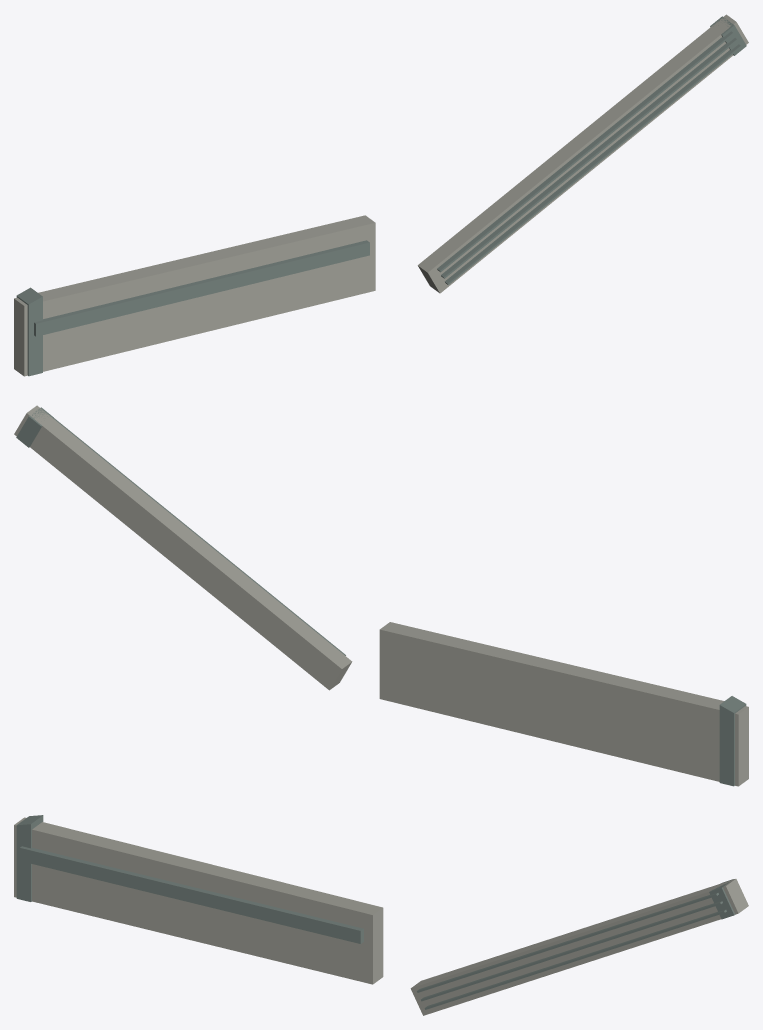
File: SM_PuertaVehiculos_v4_Blindada_e2_MuyDanado_LOD1.fbx
3 views of the same model, one above another, from view 1: azimuth 30°, elevation 25°; view 2: azimuth 150°, elevation 25°; view 3: azimuth 330°, elevation 25° (orthographic). The views are drawn at different scales.
Visible parts, largest first — view 1: Hoja_O, Hoja_E; view 2: Hoja_O, Hoja_E; view 3: Hoja_O, Hoja_E.
Boxes of the visible parts, bbox=[...] form: Hoja_O: bbox=[14, 215, 375, 376]; Hoja_E: bbox=[417, 14, 748, 293]; Hoja_O: bbox=[379, 622, 748, 786]; Hoja_E: bbox=[14, 405, 352, 690]; Hoja_O: bbox=[14, 815, 383, 984]; Hoja_E: bbox=[410, 879, 748, 1015].
Size of what is drawn, in the model's own units: 8.12 by 2.16 by 0.43.
